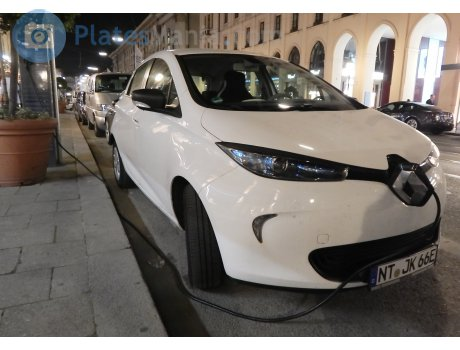License Plates: (381, 248, 436, 264)
